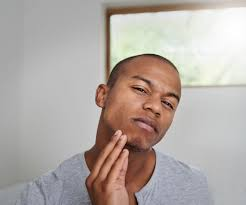black_male: (99, 46, 176, 164)
